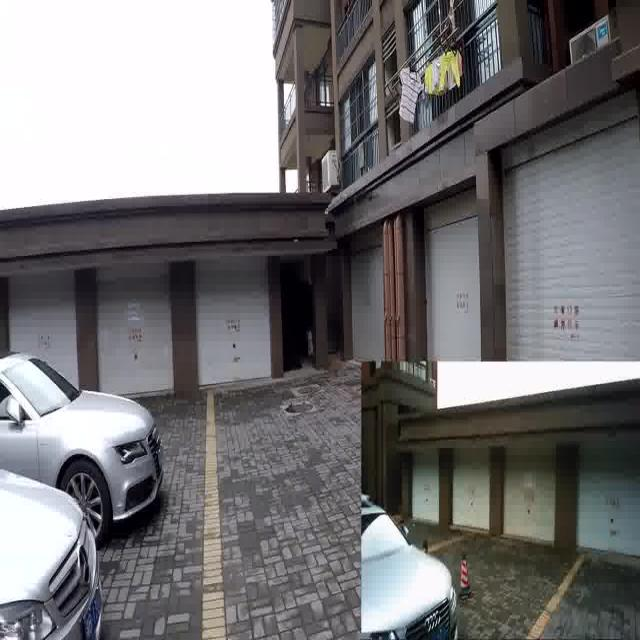drones: (351, 185, 383, 209)
